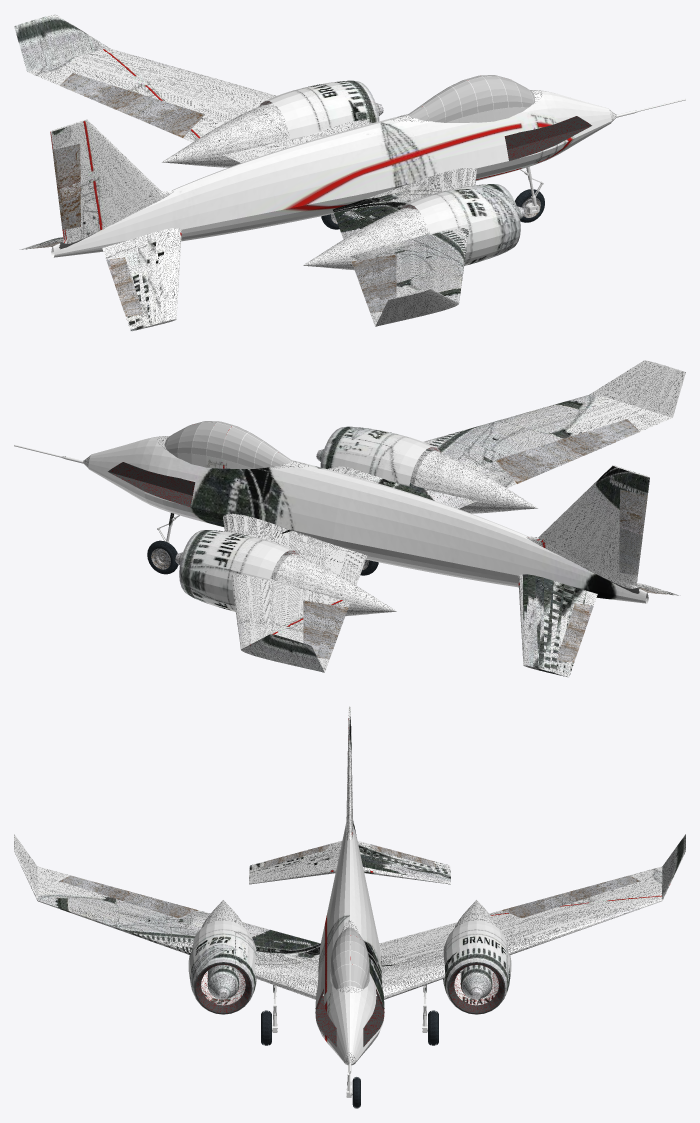
The picture shows the model from 3 angles, top to bottom: view 1: azimuth 30°, elevation 25°; view 2: azimuth 150°, elevation 25°; view 3: azimuth 270°, elevation 25°; orthographic projection. The views are drawn at different scales.
Visible parts, largest first — view 1: mesh18_mesh18-geometry, mesh62_mesh62-geometry, mesh42_mesh42-geometry, mesh22_mesh22-geometry, mesh19_mesh19-geometry, mesh40_mesh40-geometry, mesh59_mesh59-geometry, mesh20_mesh20-geometry, mesh61_mesh61-geometry, mesh41_mesh41-geometry, mesh17.001_mesh17-geometry; view 2: mesh18_mesh18-geometry, mesh42_mesh42-geometry, mesh62_mesh62-geometry, mesh22_mesh22-geometry, mesh60_mesh60-geometry, mesh59_mesh59-geometry, mesh40_mesh40-geometry, mesh20_mesh20-geometry, mesh41_mesh41-geometry, mesh61_mesh61-geometry, mesh17.001_mesh17-geometry; view 3: mesh62_mesh62-geometry, mesh42_mesh42-geometry, mesh18_mesh18-geometry, mesh59_mesh59-geometry, mesh40_mesh40-geometry, mesh60_mesh60-geometry, mesh19_mesh19-geometry, mesh20_mesh20-geometry, mesh61_mesh61-geometry, mesh41_mesh41-geometry, mesh22_mesh22-geometry.
Boxes of the visible parts, x1,y1,x2,y2 form: mesh18_mesh18-geometry: (51, 90, 616, 257); mesh62_mesh62-geometry: (14, 14, 372, 162); mesh42_mesh42-geometry: (332, 167, 476, 326); mesh22_mesh22-geometry: (50, 119, 173, 253); mesh19_mesh19-geometry: (102, 228, 181, 331); mesh40_mesh40-geometry: (400, 184, 520, 265); mesh59_mesh59-geometry: (259, 80, 379, 140); mesh20_mesh20-geometry: (407, 75, 534, 135); mesh61_mesh61-geometry: (161, 103, 383, 167); mesh41_mesh41-geometry: (303, 206, 524, 270); mesh17.001_mesh17-geometry: (515, 189, 544, 222); mesh18_mesh18-geometry: (83, 436, 648, 603); mesh42_mesh42-geometry: (327, 360, 685, 508); mesh62_mesh62-geometry: (223, 513, 367, 672); mesh22_mesh22-geometry: (526, 465, 649, 599); mesh60_mesh60-geometry: (518, 574, 597, 677); mesh59_mesh59-geometry: (179, 530, 299, 611); mesh40_mesh40-geometry: (320, 426, 440, 486); mesh20_mesh20-geometry: (165, 421, 292, 481); mesh41_mesh41-geometry: (316, 449, 538, 513); mesh61_mesh61-geometry: (175, 552, 396, 616); mesh17.001_mesh17-geometry: (147, 540, 178, 574); mesh62_mesh62-geometry: (376, 834, 685, 999); mesh42_mesh42-geometry: (14, 834, 323, 999); mesh18_mesh18-geometry: (315, 820, 384, 1065); mesh59_mesh59-geometry: (443, 920, 511, 1014); mesh40_mesh40-geometry: (188, 920, 256, 1014); mesh60_mesh60-geometry: (357, 841, 450, 884); mesh19_mesh19-geometry: (249, 841, 342, 884); mesh20_mesh20-geometry: (330, 927, 369, 988); mesh61_mesh61-geometry: (454, 900, 498, 999); mesh41_mesh41-geometry: (201, 900, 245, 999); mesh22_mesh22-geometry: (346, 706, 353, 840).
Size of the model in its own units: 0.6826 by 0.2217 by 0.6963.
